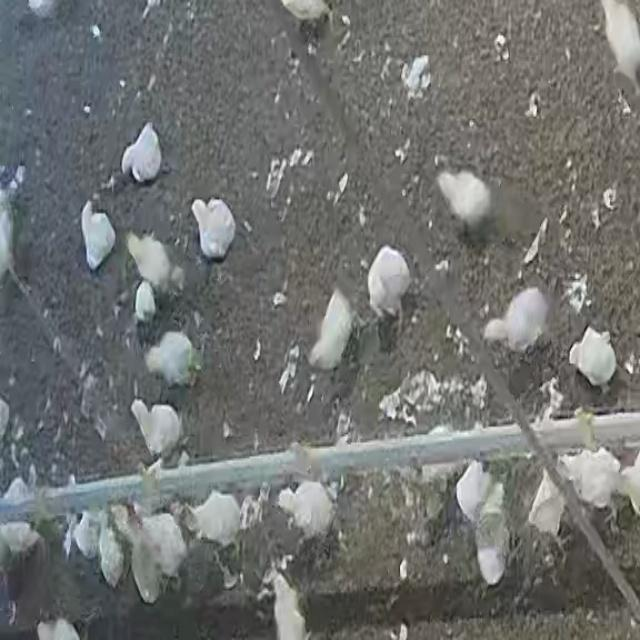chicken: (556, 452, 629, 528), (483, 287, 550, 354), (593, 0, 640, 92), (307, 291, 355, 374), (142, 515, 198, 584), (474, 485, 512, 586), (568, 326, 622, 394), (434, 166, 491, 228), (128, 229, 184, 292), (278, 481, 334, 541), (117, 124, 167, 188), (369, 241, 410, 318), (127, 400, 185, 454), (190, 197, 236, 260), (143, 332, 194, 388), (272, 573, 313, 640), (534, 474, 565, 562), (450, 456, 492, 520), (194, 495, 244, 547), (126, 533, 160, 604), (81, 197, 112, 272), (0, 521, 48, 558), (96, 528, 124, 589), (28, 614, 87, 640), (127, 280, 159, 326), (278, 0, 337, 22)
